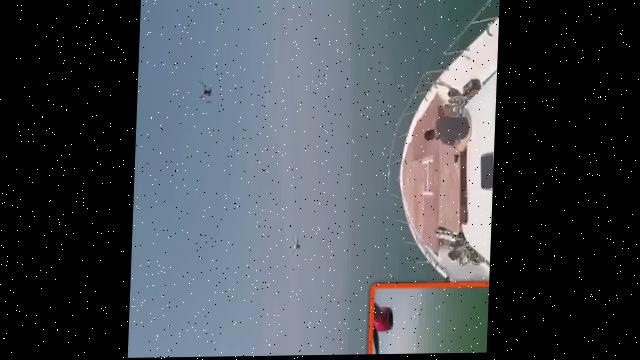drone: (192, 73, 219, 112), (286, 235, 305, 260)
